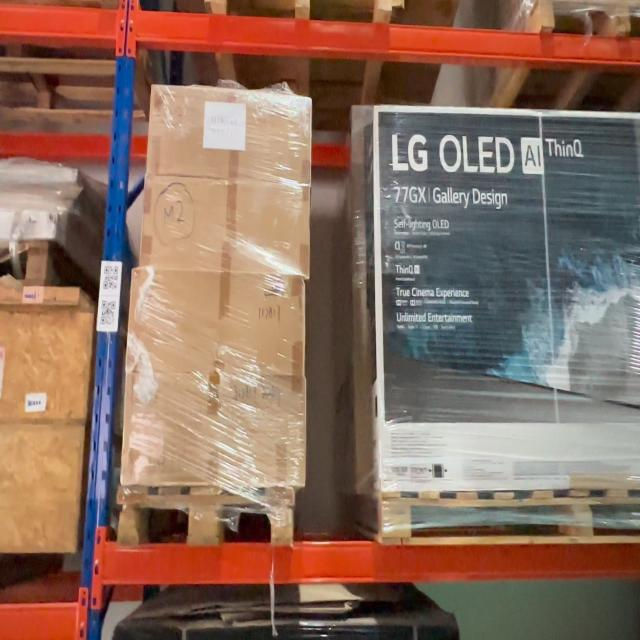box: (374, 108, 640, 474), (127, 373, 304, 486), (132, 278, 303, 374), (145, 180, 309, 268), (152, 96, 309, 176)
